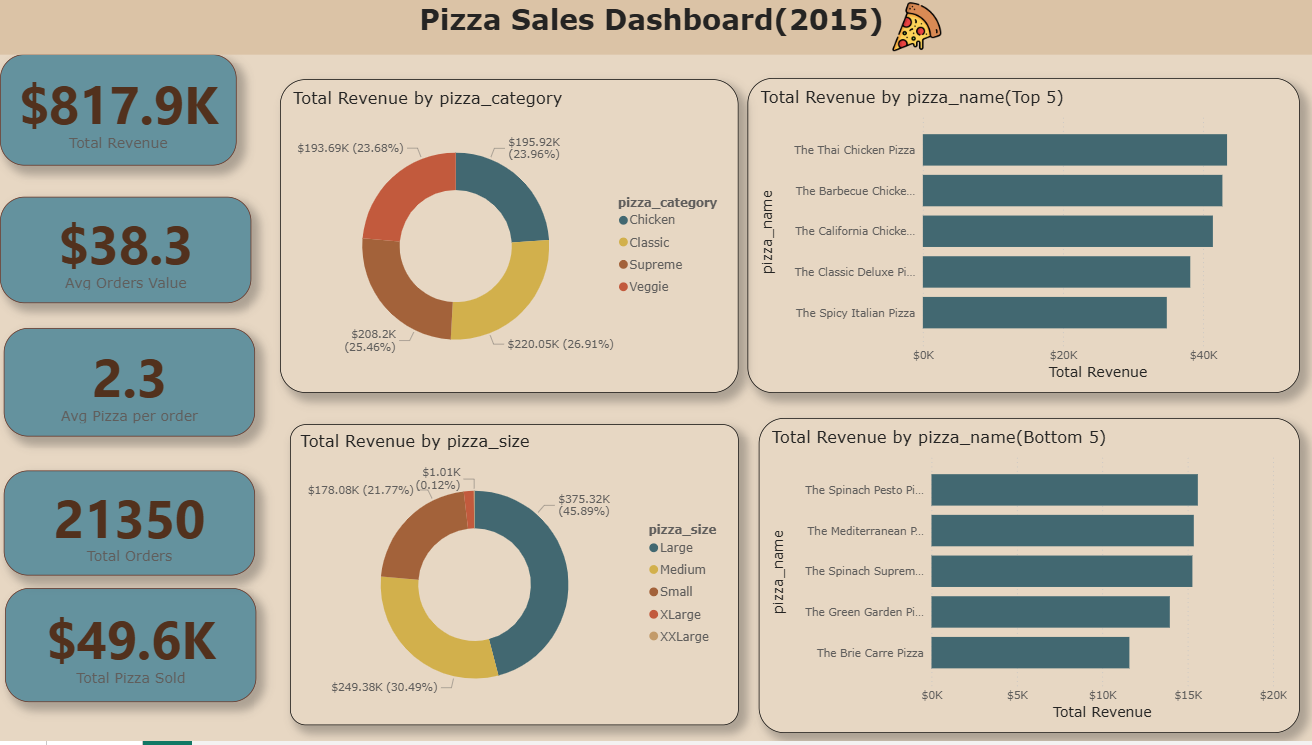

This screenshot's page, from the dashboard's own definition file:
{"tool":"powerbi","page":{"name":"Page 1","canvas":[1500,900],"ordinal":0},"visuals":[{"type":"card","fields":{"Values":["pizza_sales.Total Revenue"]},"box":[0,64.3,270,127.1],"z":0},{"type":"textbox","box":[0,0,1500,65],"z":1000},{"type":"card","fields":{"Values":["pizza_sales.Total Pizza Sold"]},"box":[5.7,674.3,287.1,130],"z":2000},{"type":"card","fields":{"Values":["pizza_sales.Total Orders"]},"box":[4.3,540,287.1,120],"z":3000},{"type":"card","fields":{"Values":["pizza_sales.Avg Pizza per order"]},"box":[4.3,377.1,287.1,124.3],"z":4000},{"type":"card","fields":{"Values":["pizza_sales.Avg Orders Value"]},"box":[0,227.1,287.1,121.4],"z":5000},{"type":"donutChart","fields":{"Y":["pizza_sales.Total Revenue"],"Series":["pizza_sales.pizza_category"]},"box":[320,92.9,524.3,358.6],"z":6000},{"type":"clusteredBarChart","title":"Total Revenue by pizza_name(Top 5)","fields":{"Category":["pizza_sales.pizza_name"],"Y":["pizza_sales.Total Revenue"]},"box":[854.3,91.4,631.4,360],"z":7000},{"type":"clusteredBarChart","title":"Total Revenue by pizza_name(Bottom 5)","fields":{"Category":["pizza_sales.pizza_name"],"Y":["pizza_sales.Total Revenue"]},"box":[867.1,480,618.6,360],"z":8000},{"type":"donutChart","fields":{"Category":["pizza_sales.pizza_size"],"Y":["pizza_sales.Total Revenue"]},"box":[331.4,487.1,512.9,344.3],"z":9000},{"type":"image","box":[881.4,0,332.9,65.7],"z":14000}]}

Visuals, with their boxes on the page's 1500x900 design canvas (x1, y1, x2, y2). These are canvas units, not pixel positions in the 1312x745 screenshot, which may show the page scaled, cropped or inside an application window:
card - pizza_sales.Total Revenue: [x1=0, y1=64, x2=270, y2=191]
textbox: [x1=0, y1=0, x2=1500, y2=65]
card - pizza_sales.Total Pizza Sold: [x1=6, y1=674, x2=293, y2=804]
card - pizza_sales.Total Orders: [x1=4, y1=540, x2=291, y2=660]
card - pizza_sales.Avg Pizza per order: [x1=4, y1=377, x2=291, y2=501]
card - pizza_sales.Avg Orders Value: [x1=0, y1=227, x2=287, y2=348]
donutChart - pizza_sales.Total Revenue x pizza_sales.pizza_category: [x1=320, y1=93, x2=844, y2=452]
"Total Revenue by pizza_name(Top 5)" clusteredBarChart: [x1=854, y1=91, x2=1486, y2=451]
"Total Revenue by pizza_name(Bottom 5)" clusteredBarChart: [x1=867, y1=480, x2=1486, y2=840]
donutChart - pizza_sales.pizza_size x pizza_sales.Total Revenue: [x1=331, y1=487, x2=844, y2=831]
image: [x1=881, y1=0, x2=1214, y2=66]
